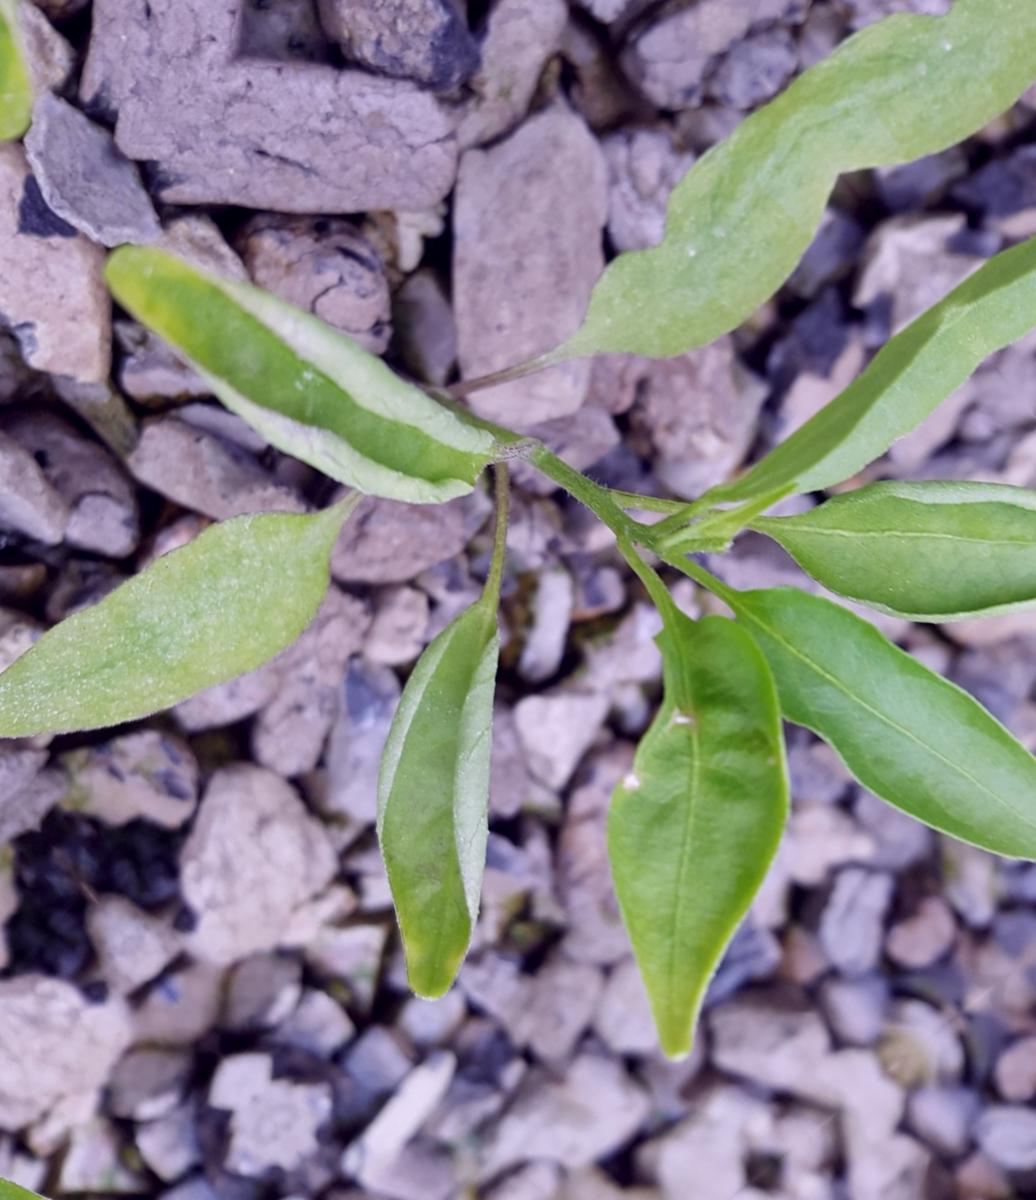Tomato leaf: (436, 587, 946, 1098), (235, 567, 690, 1019), (646, 460, 1036, 976), (0, 418, 400, 848), (520, 99, 878, 431)
